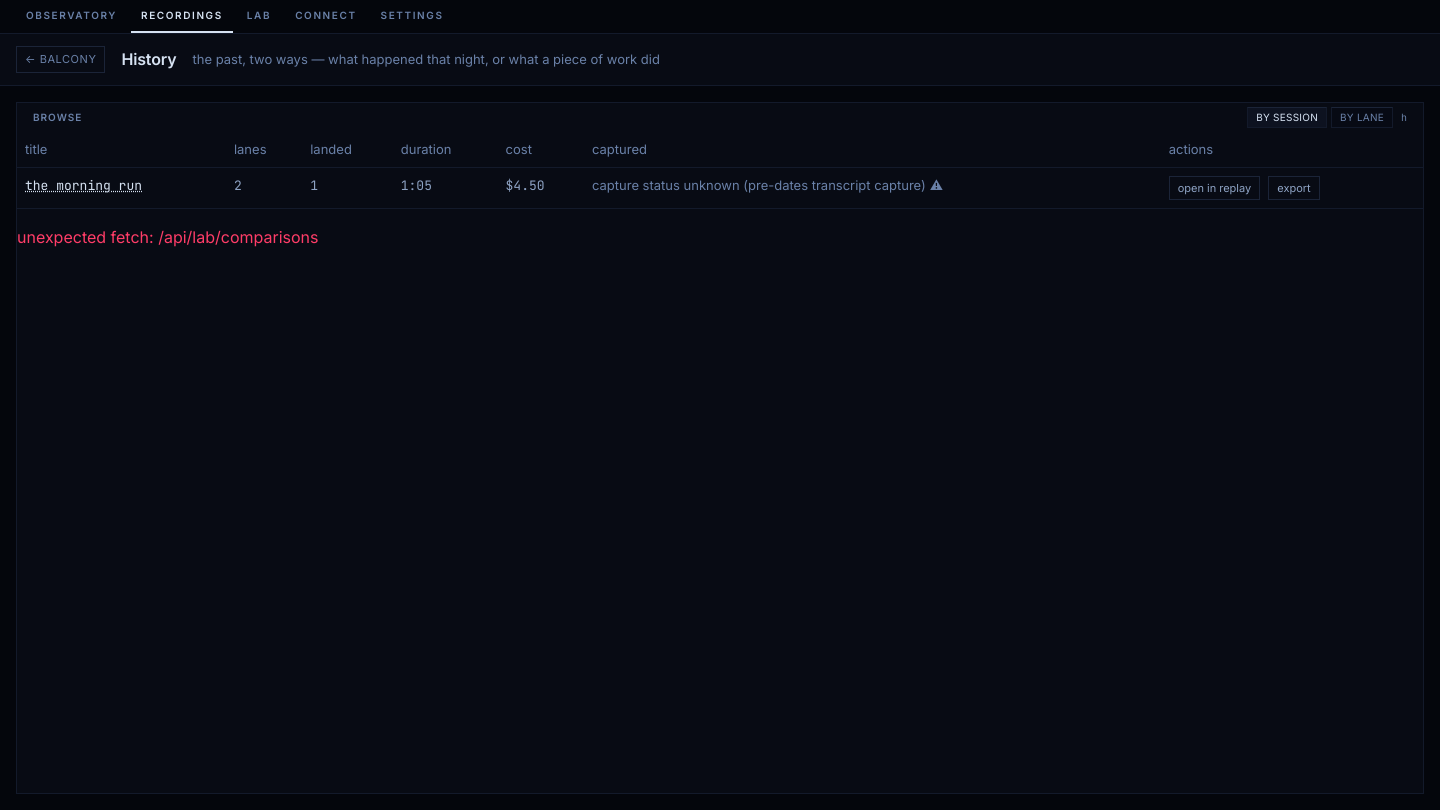
Test: the lane axis (S4 — by lane) › reads a lane spanning an authoritative session and an estimated one as ESTIMATED
Click the button with test id "history-representation-lane".
click(1362, 117)  # box [1331, 106, 1393, 128]
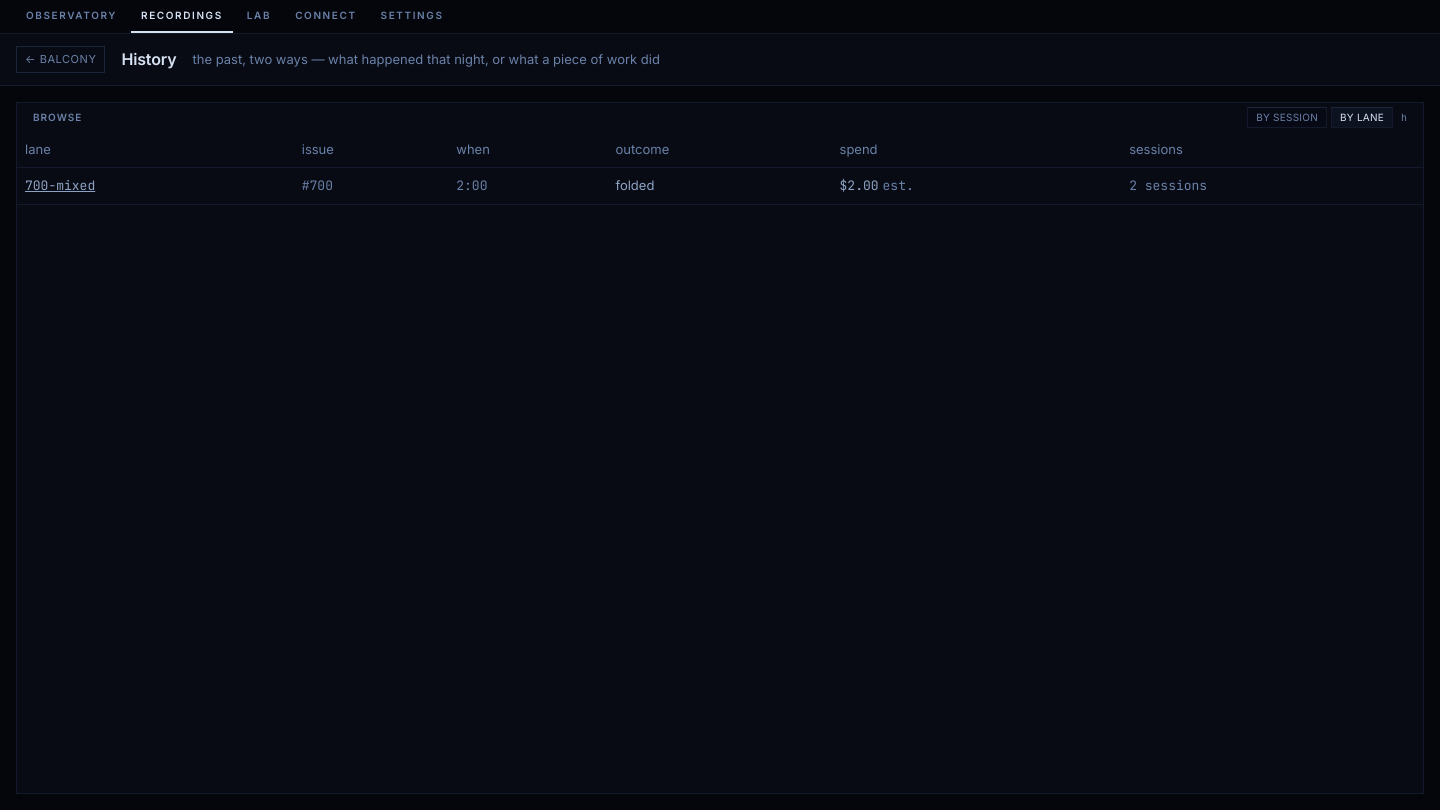
Check: the row with test id "history-lane-row-700-mixed" shows "$2.00", box [840, 176, 914, 196]
Check: the row with test id "history-lane-row-700-mixed" shows "est.", box [840, 176, 914, 196]
